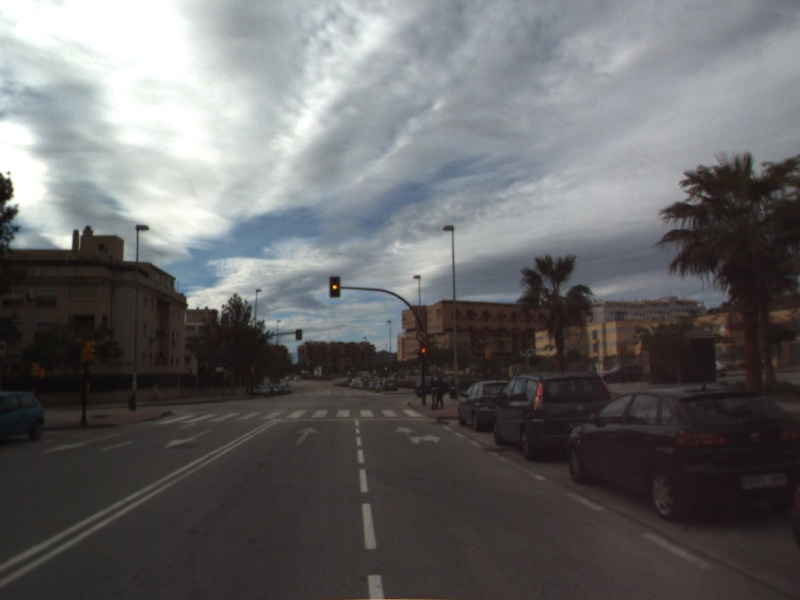STRAIGHT: (292, 424, 321, 446)
STRAIGHT_RIGHT: (392, 424, 443, 446)
